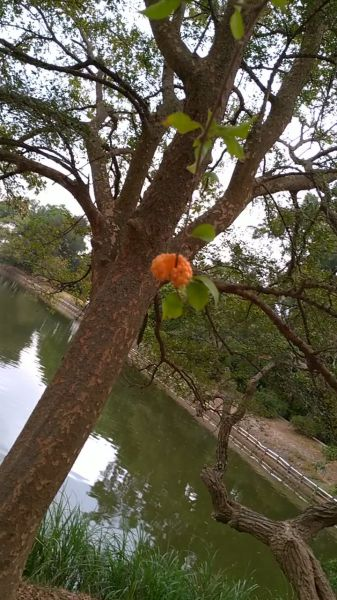eggs: (149, 247, 198, 290)
